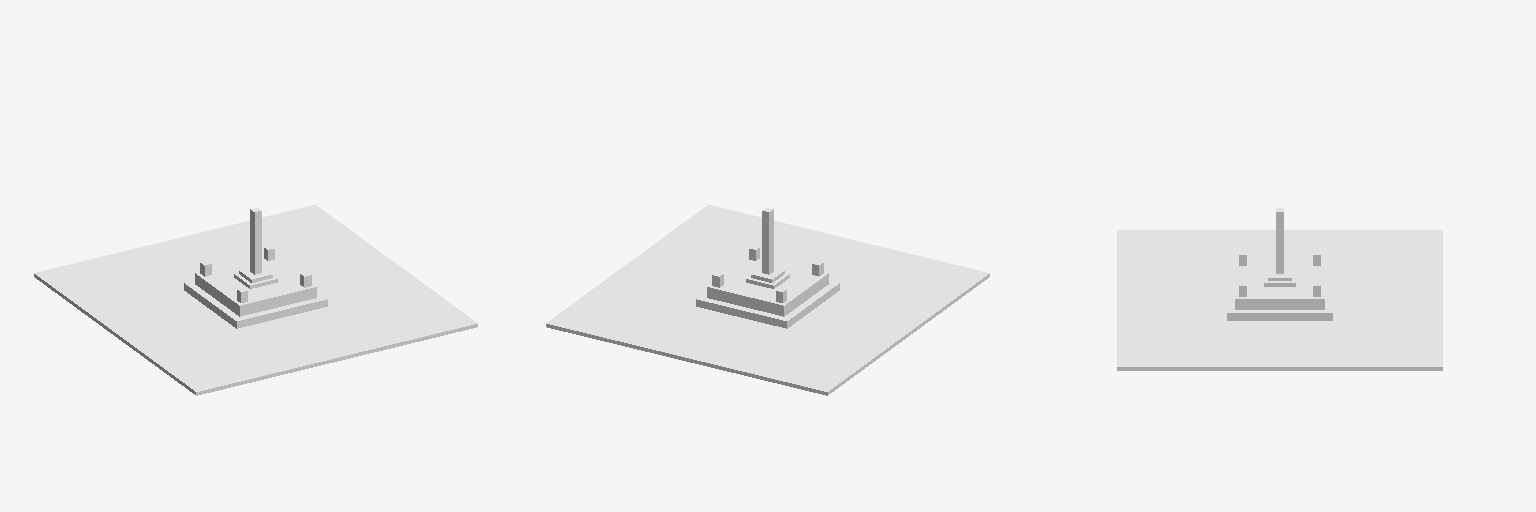
Rendered from Asset-24.obj.
The picture shows the model from 3 angles: view 1: azimuth 30°, elevation 25°; view 2: azimuth 150°, elevation 25°; view 3: azimuth 270°, elevation 25°; orthographic projection.
Parts seen in each view (by area): view 1: Asset-24; view 2: Asset-24; view 3: Asset-24.
Boxes of the visible parts, box(x1,y1,x2,y2) form: Asset-24: box(34, 204, 477, 395); Asset-24: box(546, 204, 989, 395); Asset-24: box(1117, 208, 1442, 370).
Size of the model in its own units: 80 by 25 by 80.